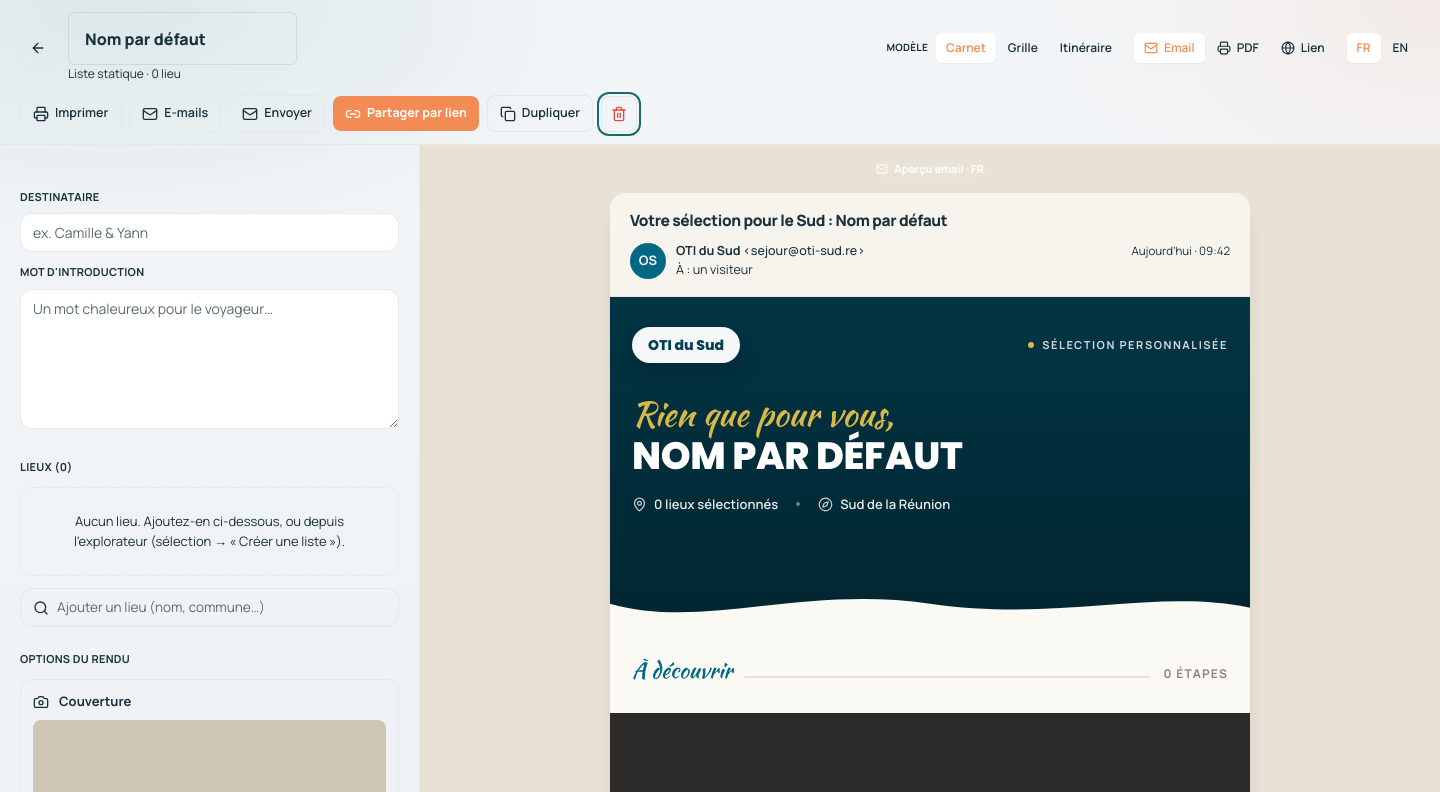
it: ListComposeView — shared list deletion confirmation › cancel closes with cancel initially focused and restores the opener without deletion
The image size is (1440, 792).
Click the button named "Supprimer la liste" at (619, 114), box [601, 96, 637, 132]
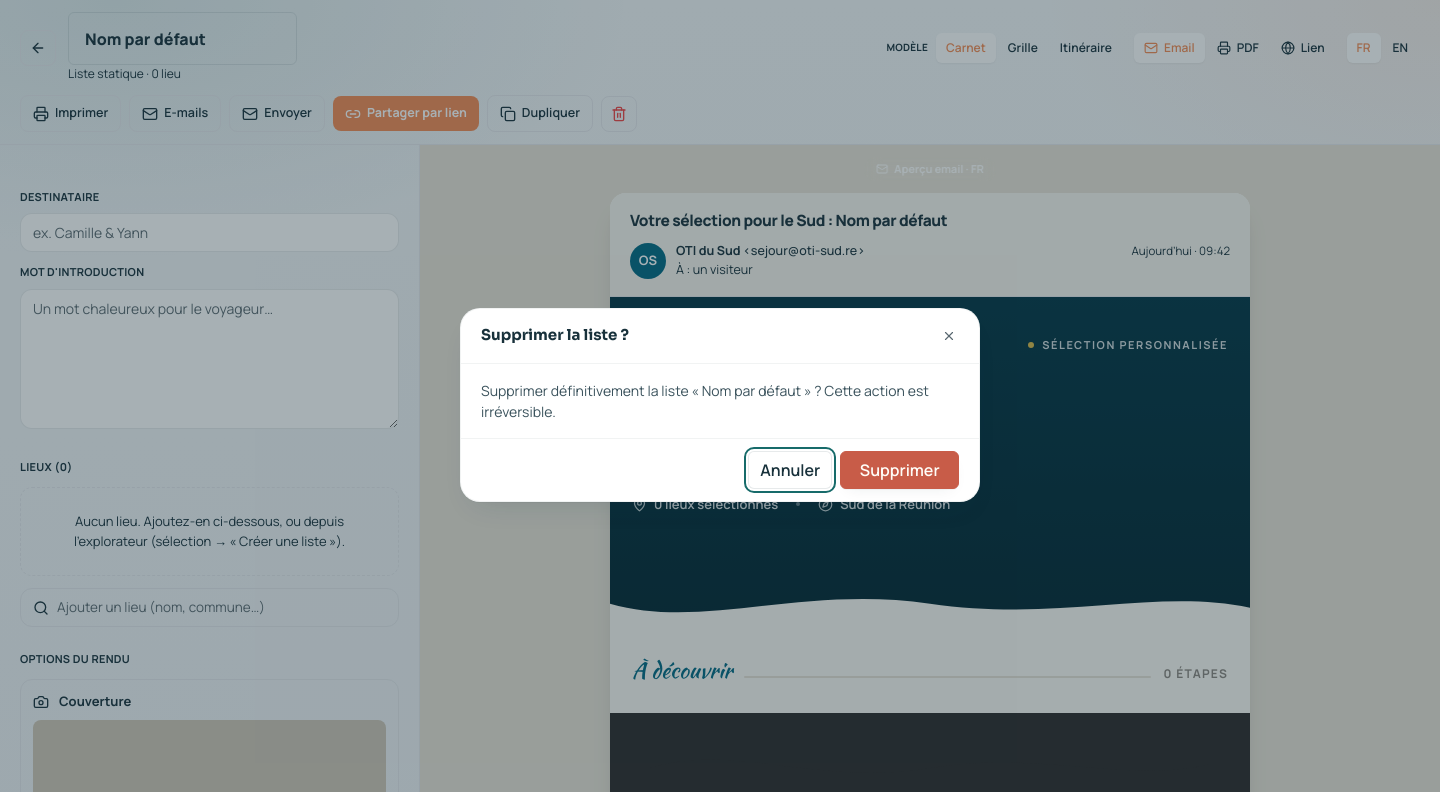
Expected: the dialog "Supprimer la liste ?" shows "Nom par défaut", [702, 381, 801, 400]
Click the button "Annuler" at (790, 470), box [748, 451, 832, 489]
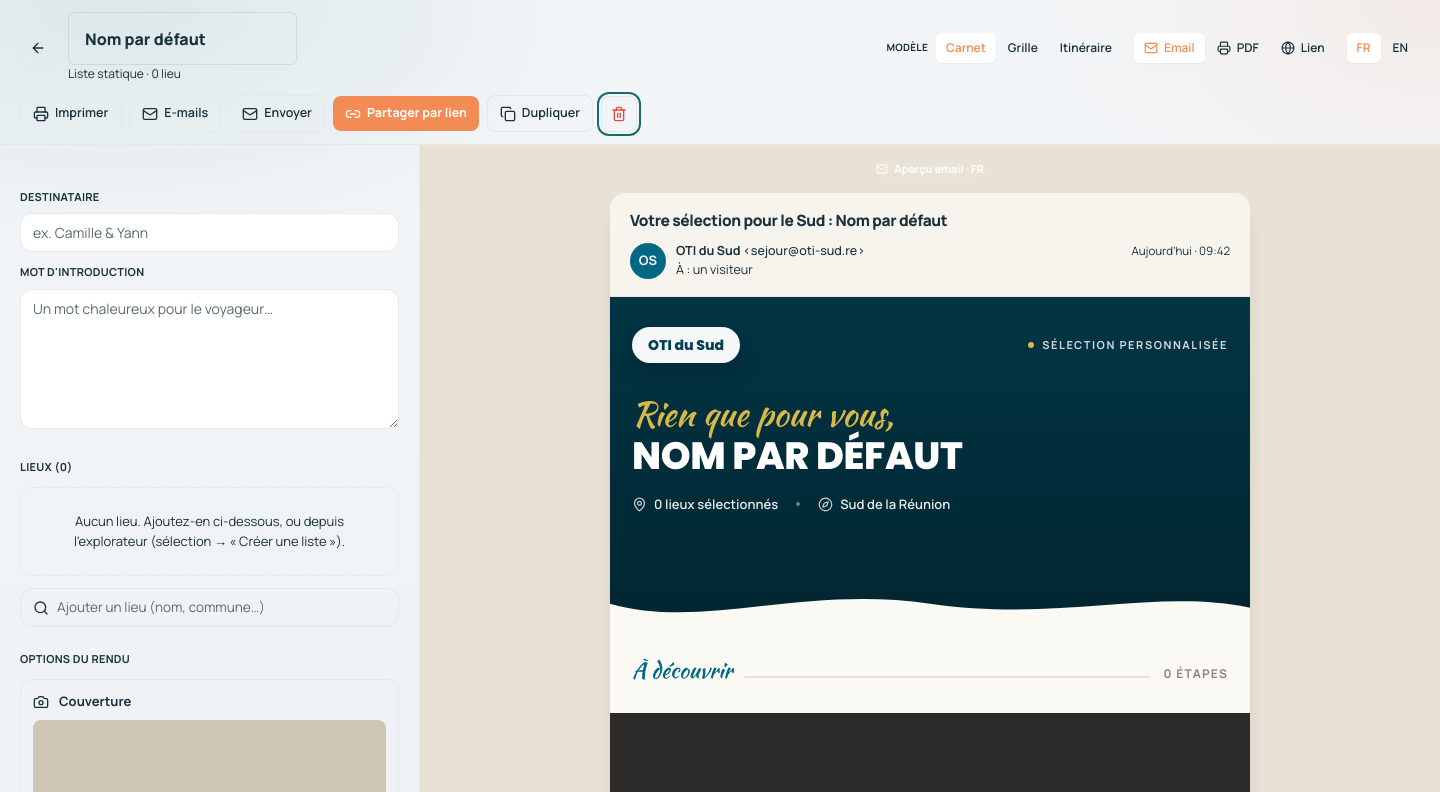
Expected: the dialog is gone
